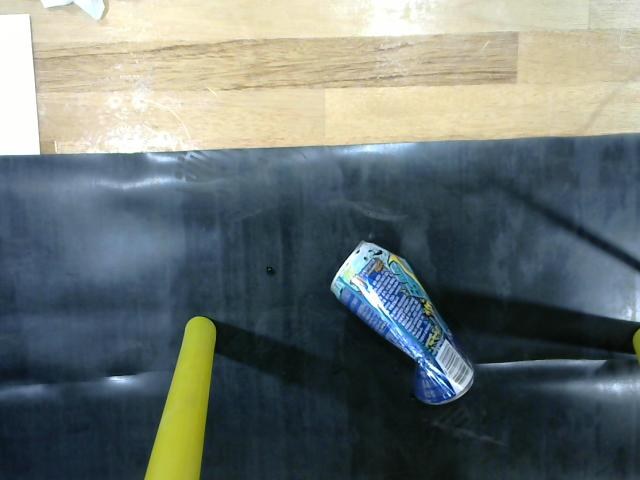can: (328, 231, 480, 411)
